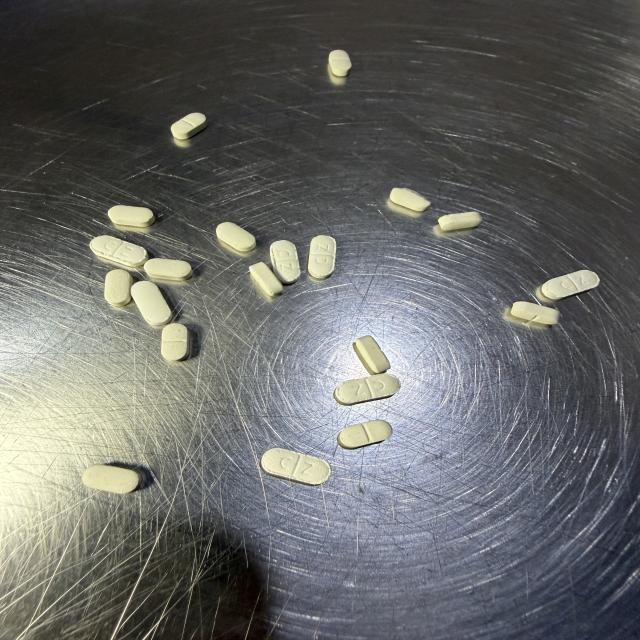pill: (261, 448, 331, 485), (334, 374, 400, 405), (131, 281, 171, 326), (90, 236, 148, 267), (541, 270, 599, 299), (82, 465, 140, 493), (338, 420, 392, 449), (353, 336, 390, 374), (270, 240, 300, 283), (308, 236, 336, 279), (216, 222, 255, 252), (250, 262, 283, 296), (511, 302, 559, 324), (145, 259, 192, 281), (105, 270, 133, 306), (162, 323, 188, 361), (108, 206, 155, 227), (390, 188, 430, 211), (171, 113, 206, 139), (439, 212, 482, 231), (329, 50, 351, 76)
